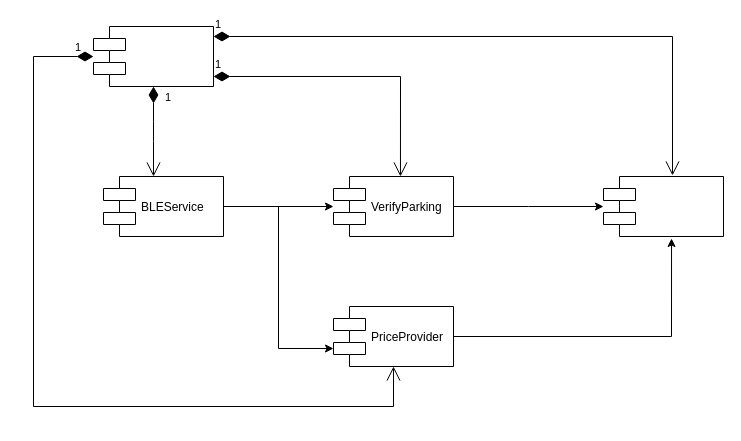
The diagram is 741 pixels wide and 441 high, and some of its shapes have lost their labels. Each missing label, with the box of its shape:
application: (92, 26, 214, 86)
CloudService: (602, 176, 724, 236)
